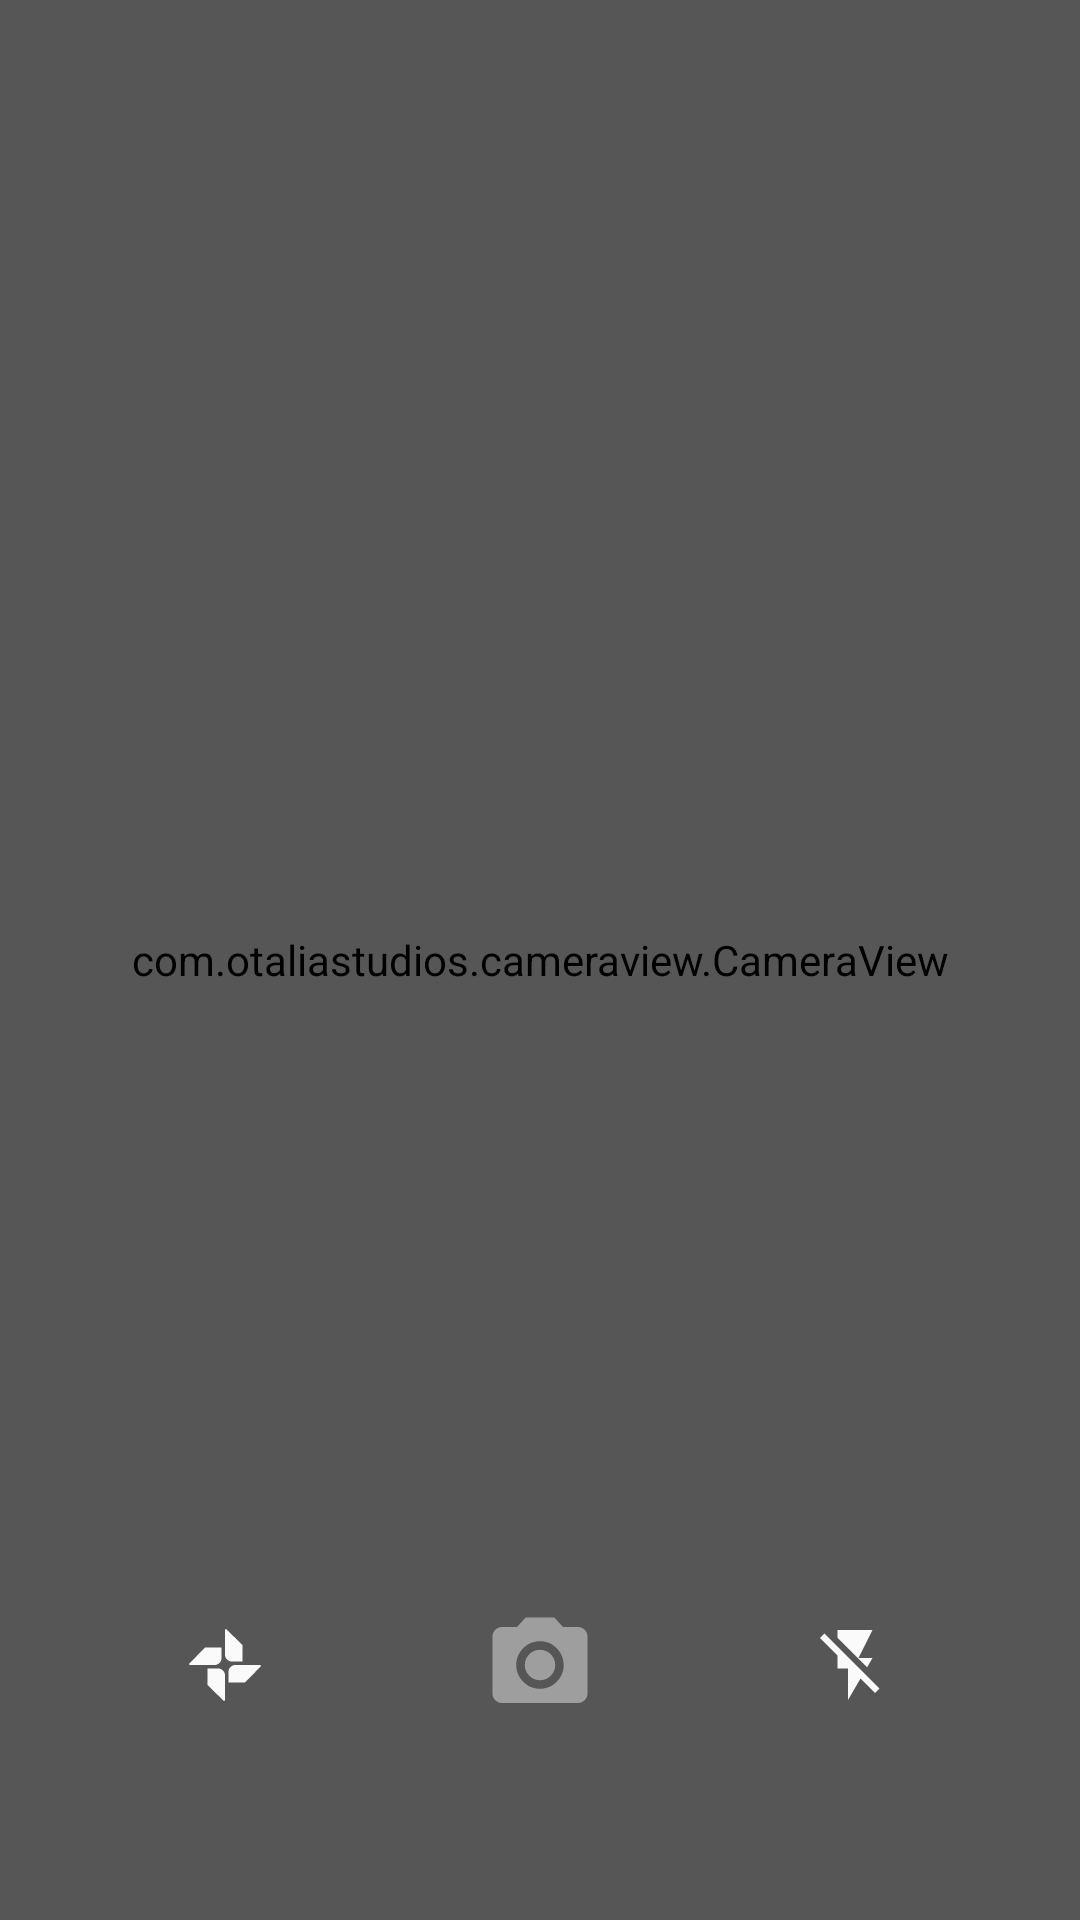

Icon bounding boxes for this 1080w x 1920h phone screenshot, format (x1, y1, x2, y2):
flash off: (820, 1630, 880, 1700)
